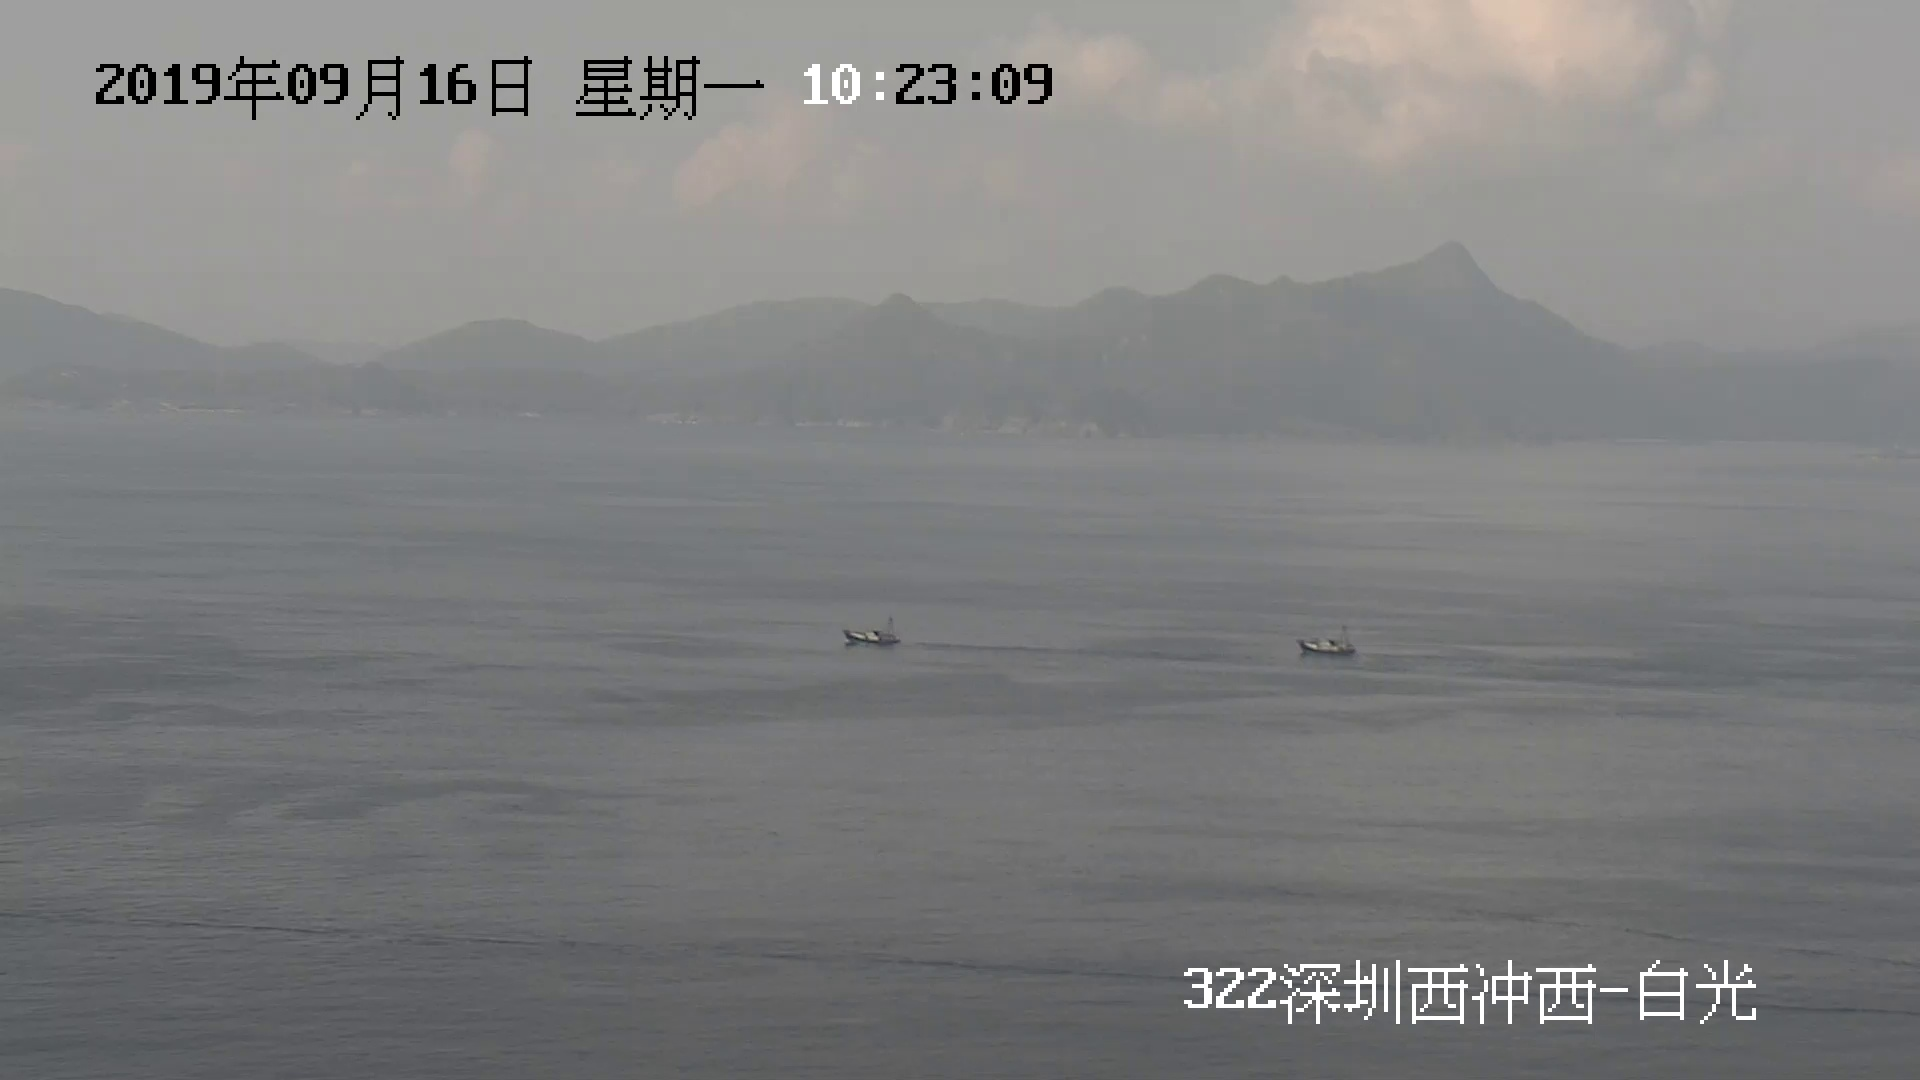ship: (844, 617, 905, 647), (1296, 636, 1356, 659)
